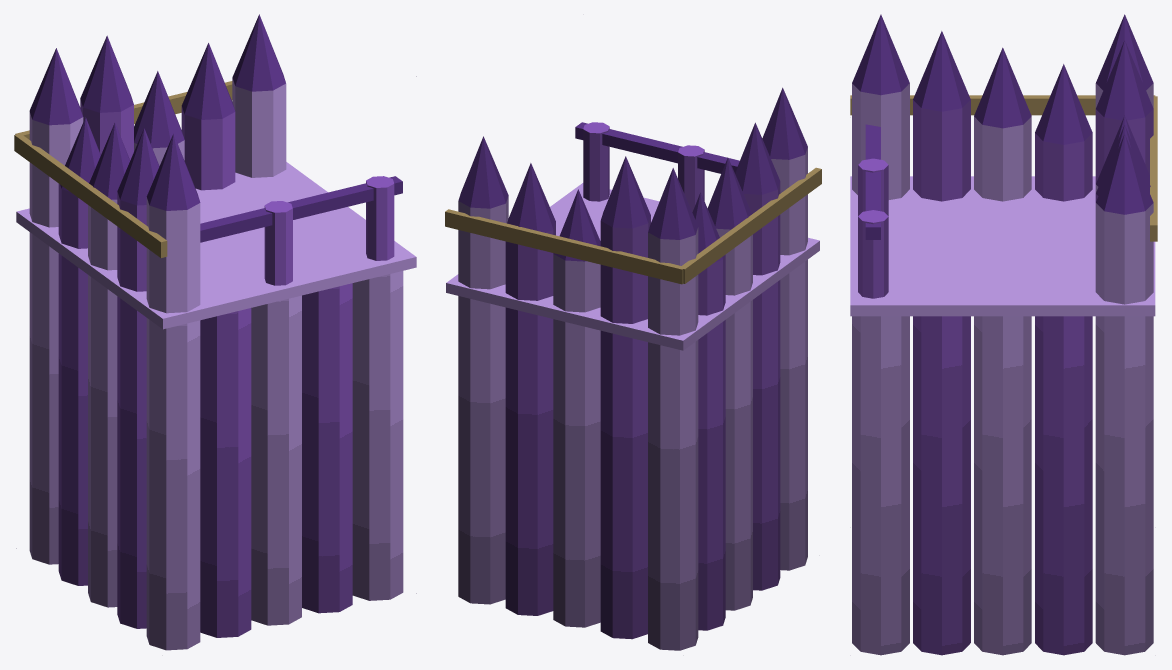
Rendered from perimeter_wall_crystal_f2.glb.
3 views of the same model, side by side, from view 1: azimuth 30°, elevation 25°; view 2: azimuth 150°, elevation 25°; view 3: azimuth 270°, elevation 25° (orthographic). The views are drawn at different scales.
Bounding box in the file's own units: 2.01 × 3.9 × 2.01.
Materials: 1 (1 with a texture image).
